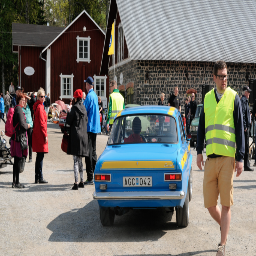sv_licence_plate: (121, 176, 153, 187)
